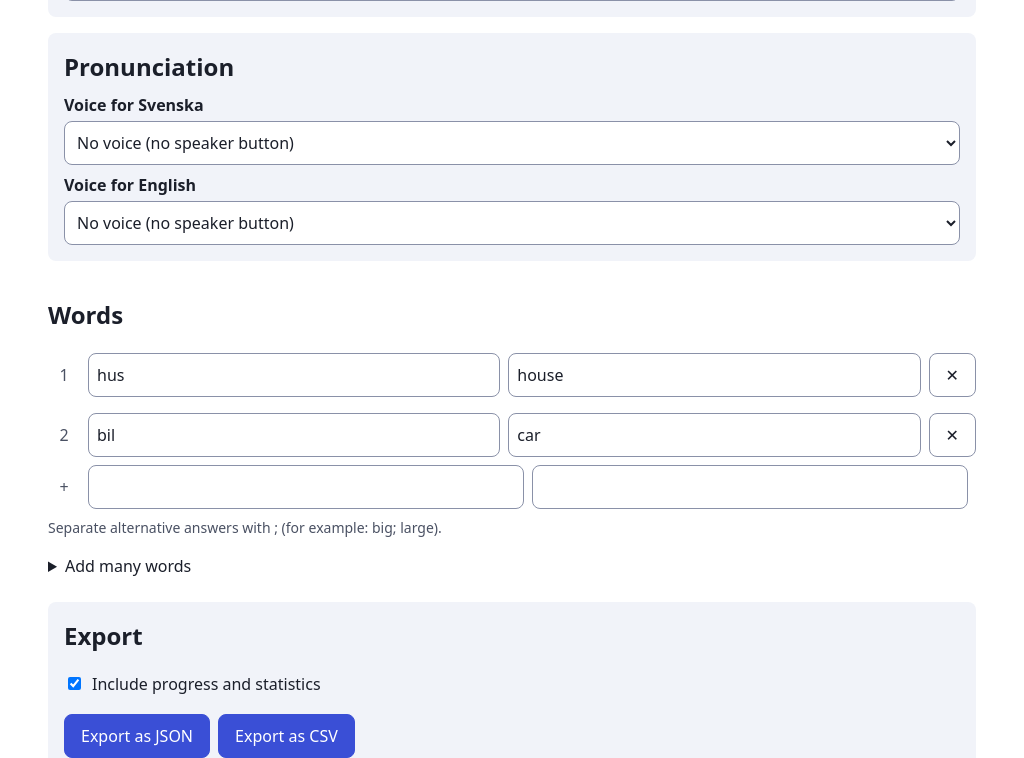
removing pairs › FR-SET-6: removes a pair and offers Undo that restores it with its position
This screenshot has width=1024, height=758.
(page scrolled)
Check: the heading "Words" is shown, box x1=48 y1=298 x2=123 y2=331
Click the button named "Remove word 1": (952, 375) x1=929 y1=353 x2=976 y2=397
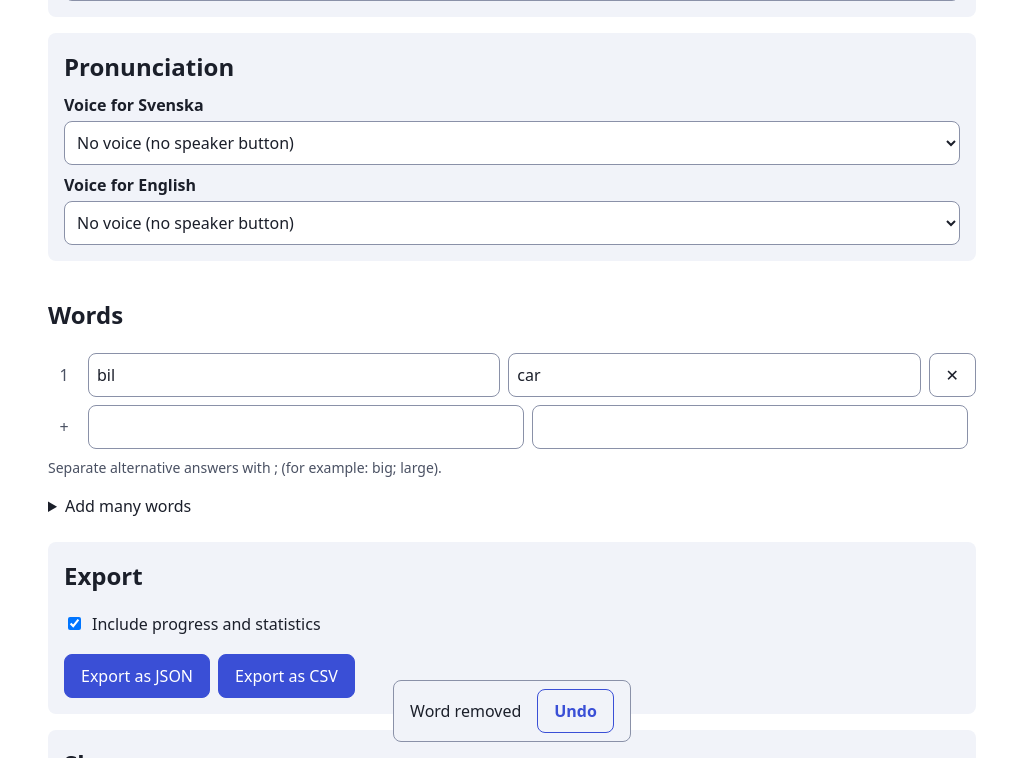
Check: the field showing "hus" is not shown
Check: the message named "Notifications" shows "Word removed", box x1=410 y1=700 x2=521 y2=722
Click the button "Undo": (576, 711) x1=537 y1=689 x2=614 y2=733
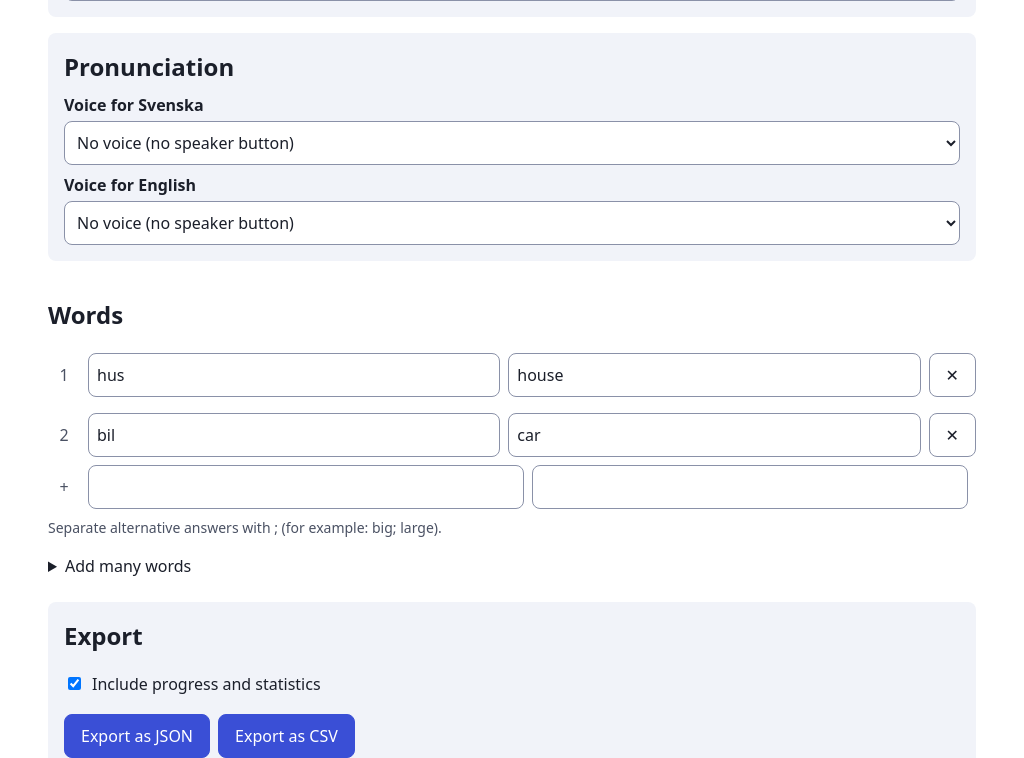
Check: the field named "Svenska, word 2" holds "bil", box x1=88 y1=413 x2=500 y2=457
Check: the field named "Svenska, word 1" holds "hus", box x1=88 y1=353 x2=500 y2=397
